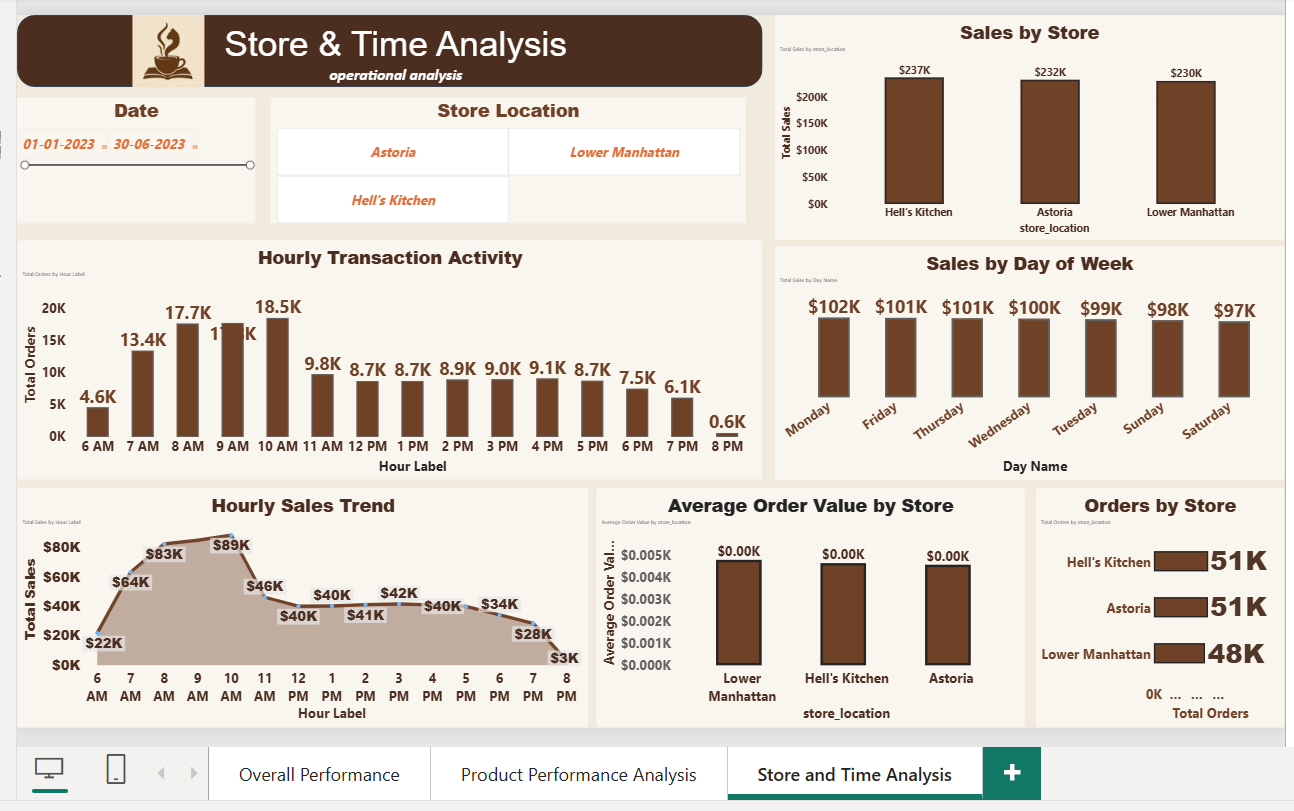

What the dashboard file says about the page in this screenshot:
{"tool":"powerbi","page":{"name":"Store and Time Analysis","canvas":[3840,2160],"ordinal":2},"visuals":[{"type":"lineChart","title":"Hourly Sales Trend","fields":{"Category":["Coffee_Sales.Hour Label"],"Y":["Coffee_Sales.Total Sales"]},"box":[0,1430.9,1730.7,726.8],"z":0},{"type":"shape","box":[0,0,2257.7,218],"z":1},{"type":"textbox","box":[0,27.3,2294,190.8],"z":2},{"type":"clusteredColumnChart","title":"Sales by Store","fields":{"Category":["Coffee_Sales.store_location"],"Y":["Coffee_Sales.Total Sales"]},"box":[2294,0,1544.5,681.4],"z":3},{"type":"clusteredBarChart","title":"Orders by Store","fields":{"Category":["Coffee_Sales.store_location"],"Y":["Coffee_Sales.Total Orders"]},"box":[3084.4,1430.9,754.1,726.8],"z":4},{"type":"clusteredColumnChart","title":"Average Order Value by Store","fields":{"Category":["Coffee_Sales.store_location"],"Y":["Coffee_Sales.Average Order Value"]},"box":[1753.4,1430.9,1299.2,726.8],"z":5},{"type":"clusteredColumnChart","title":"Hourly Transaction Activity","fields":{"Category":["Coffee_Sales.Hour Label"],"Y":["Coffee_Sales.Total Orders"]},"box":[0,681.4,2257.7,726.8],"z":6},{"type":"clusteredColumnChart","title":"Sales by Day of Week","fields":{"Category":["Date Table.Day Name"],"Y":["Coffee_Sales.Total Sales"]},"box":[2294,699.6,1544.5,708.6],"z":7},{"type":"slicer","title":"Date","fields":{"Values":["Date Table.Date"]},"box":[0,249.8,722.3,381.6],"z":8},{"type":"slicer","title":"Store Location","fields":{"Values":["Coffee_Sales.store_location"]},"box":[767.7,249.8,1440,381.6],"z":9},{"type":"image","box":[308.9,0,299.8,218],"z":10}]}

Visuals, with their boxes on the page's 3840x2160 design canvas (x1, y1, x2, y2). These are canvas units, not pixel positions in the 1294x811 screenshot, which may show the page scaled, cropped or inside an application window:
"Hourly Sales Trend" lineChart: l=0, t=1431, r=1731, b=2158
shape: l=0, t=0, r=2258, b=218
textbox: l=0, t=27, r=2294, b=218
"Sales by Store" clusteredColumnChart: l=2294, t=0, r=3838, b=681
"Orders by Store" clusteredBarChart: l=3084, t=1431, r=3838, b=2158
"Average Order Value by Store" clusteredColumnChart: l=1753, t=1431, r=3053, b=2158
"Hourly Transaction Activity" clusteredColumnChart: l=0, t=681, r=2258, b=1408
"Sales by Day of Week" clusteredColumnChart: l=2294, t=700, r=3838, b=1408
"Date" slicer: l=0, t=250, r=722, b=631
"Store Location" slicer: l=768, t=250, r=2208, b=631
image: l=309, t=0, r=609, b=218
